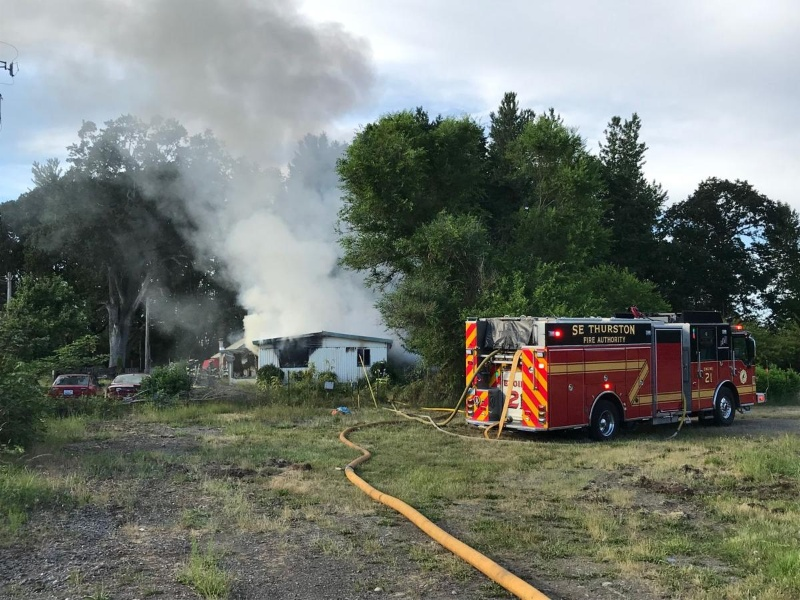smoke: (192, 5, 354, 321)
